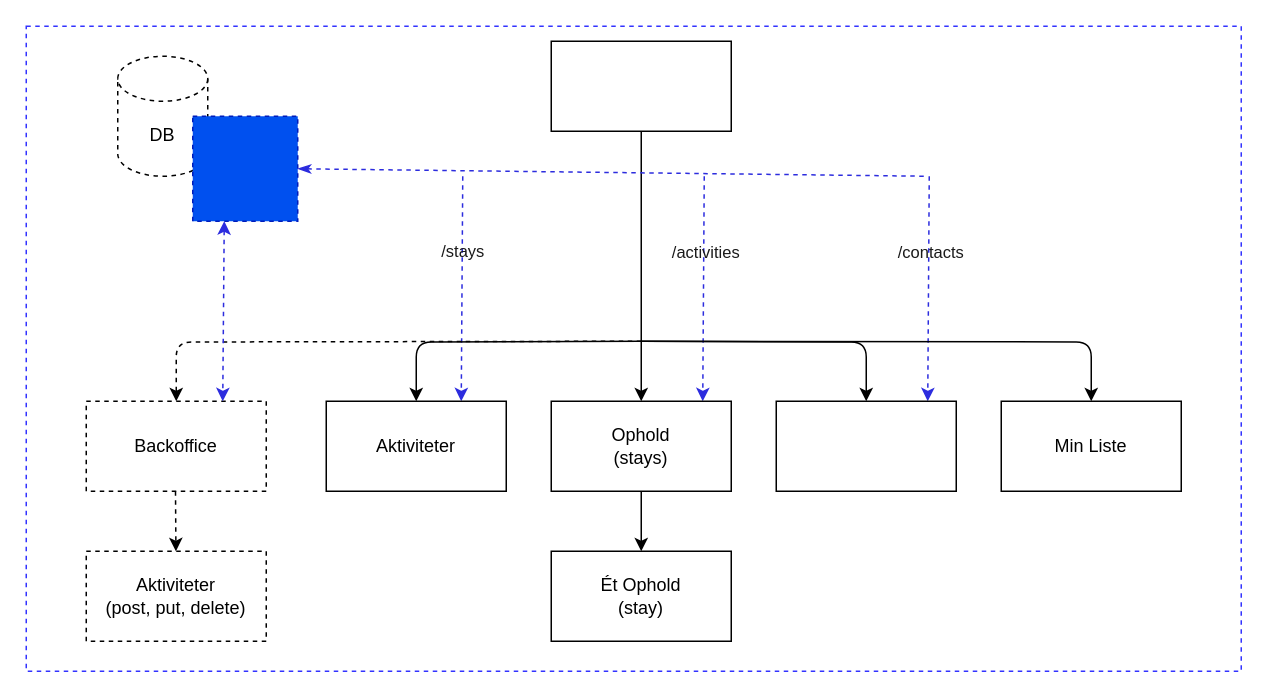
The diagram is 1268 pixels wide and 698 high, and some of its shapes have lost their labels. The shapes that lost their labels are listed below. From the top down, each one's centre as x and y in pixels, then its label:
pixel 640 85: Gittes Glamping
pixel 244 168: server localhost :3042
pixel 865 445: Kontakt
